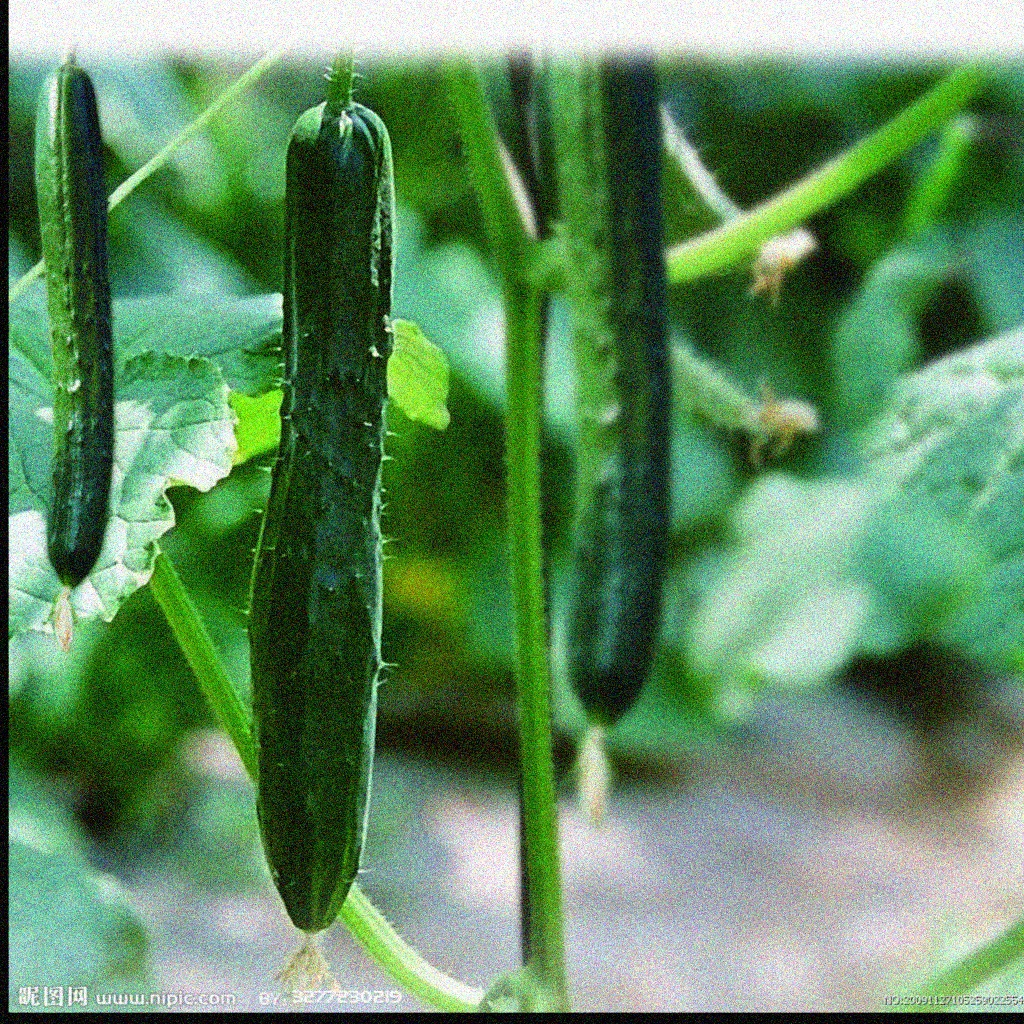cucumber: (235, 106, 413, 935), (28, 63, 126, 589)
